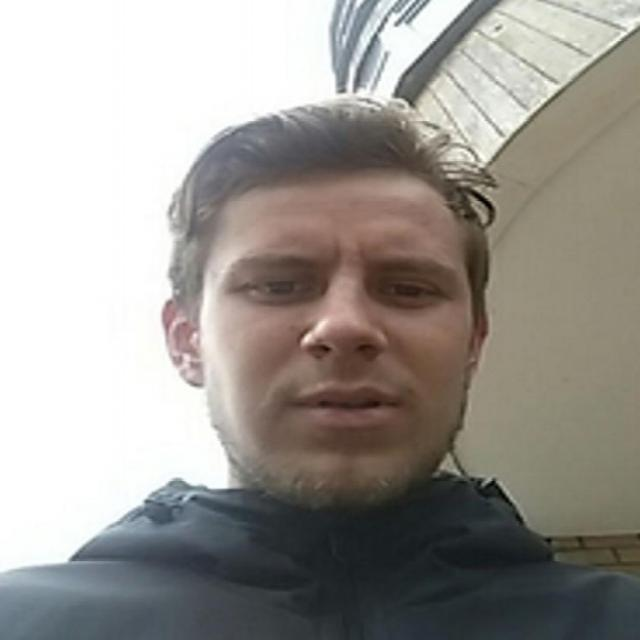earlobe: (176, 351, 206, 388)
eye: (298, 339, 391, 377), (376, 278, 440, 304), (248, 277, 314, 300)
wholeear: (161, 299, 207, 388)
